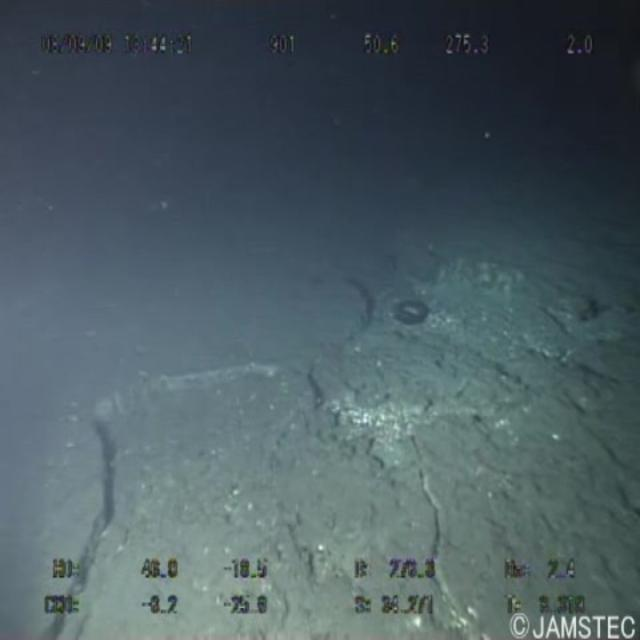Rubber: (374, 281, 454, 361)
